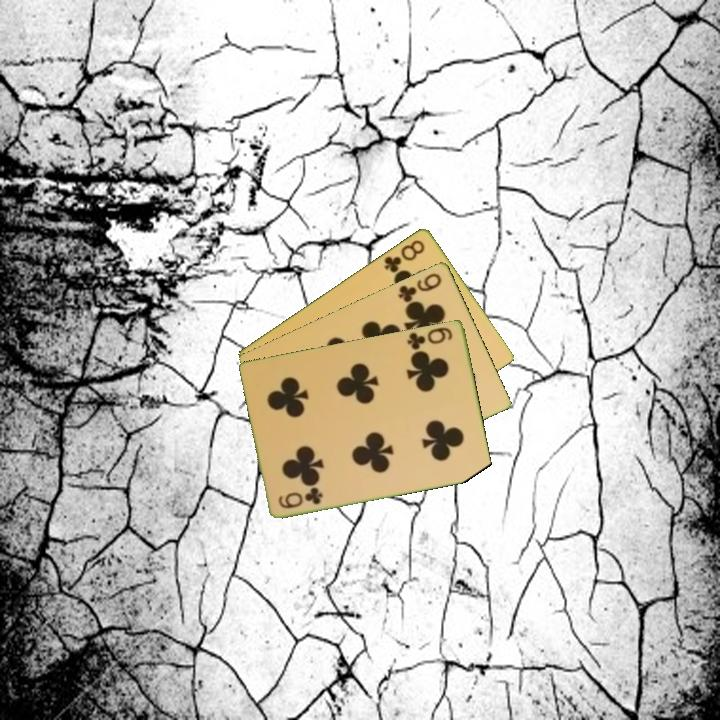6c: (404, 323, 456, 352), (275, 484, 326, 511)
8c: (380, 236, 428, 275)
9c: (395, 269, 445, 305)
